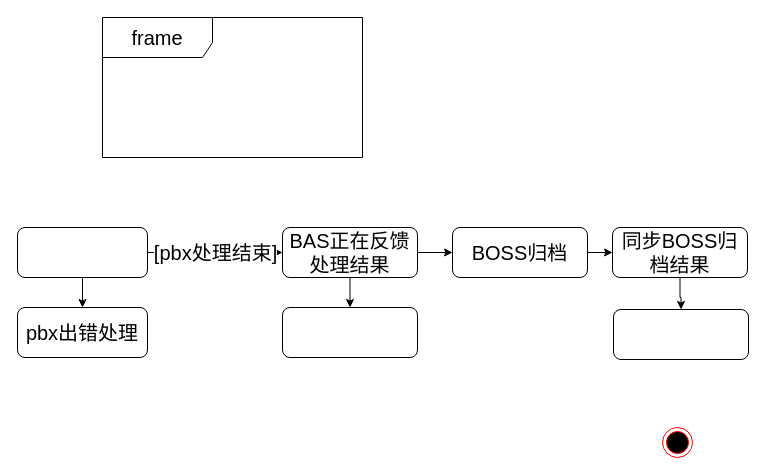
Some shapes in this 766 by 475 pixel diagram are drawn without their labels. Here are the shapes that lost their labels. From the top down, the box of each, then its label:
(16, 226, 148, 278): pbx正在处理
(282, 306, 418, 358): BAS正在反馈出错
(612, 308, 748, 360): 同步BOSS归档结果出错
